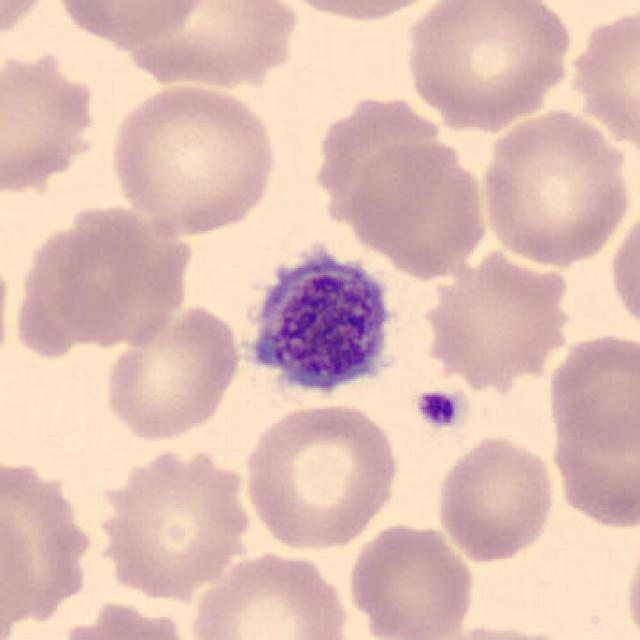Lymphocyte: (233, 235, 405, 409)
Platelets: (412, 388, 466, 430)
RBC: (105, 79, 281, 240), (10, 204, 194, 355), (92, 441, 256, 601), (475, 104, 633, 270), (238, 398, 402, 554), (402, 0, 578, 132), (428, 253, 574, 396), (318, 99, 464, 240), (342, 144, 490, 283), (100, 302, 243, 444), (0, 449, 89, 640), (114, 0, 300, 90), (432, 432, 558, 564), (345, 520, 476, 638), (186, 548, 354, 640), (546, 384, 640, 532), (0, 58, 93, 194), (542, 328, 638, 457), (50, 0, 215, 48), (53, 597, 199, 640), (263, 0, 453, 26), (606, 203, 640, 337), (418, 622, 586, 640), (0, 0, 59, 51), (0, 240, 14, 386), (622, 534, 640, 640)
